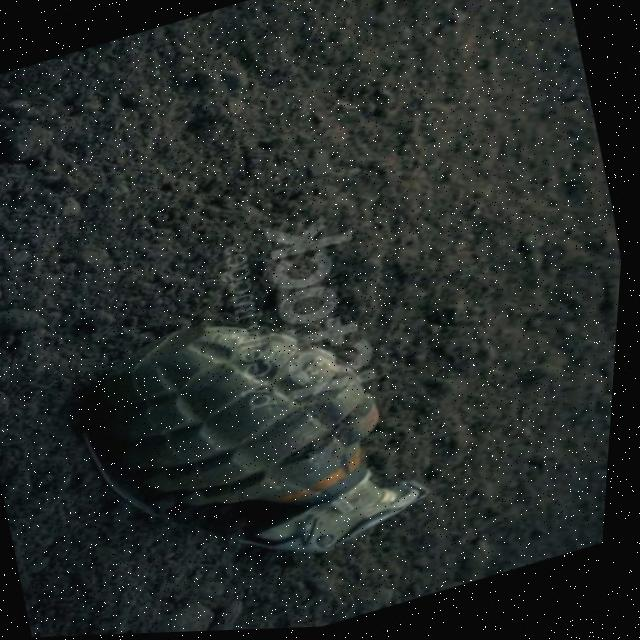grenade: (52, 256, 470, 628)
